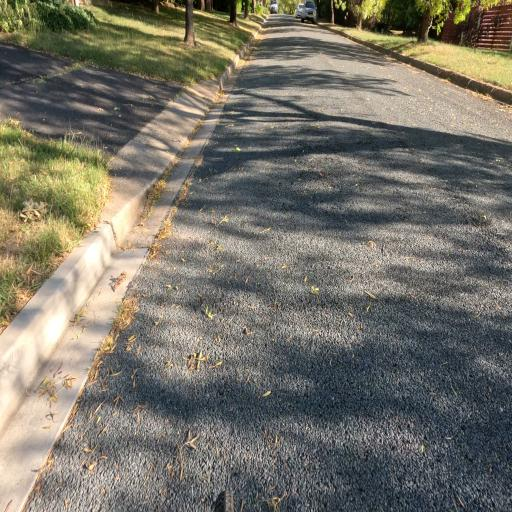kerb_cut: (106, 85, 230, 198)
